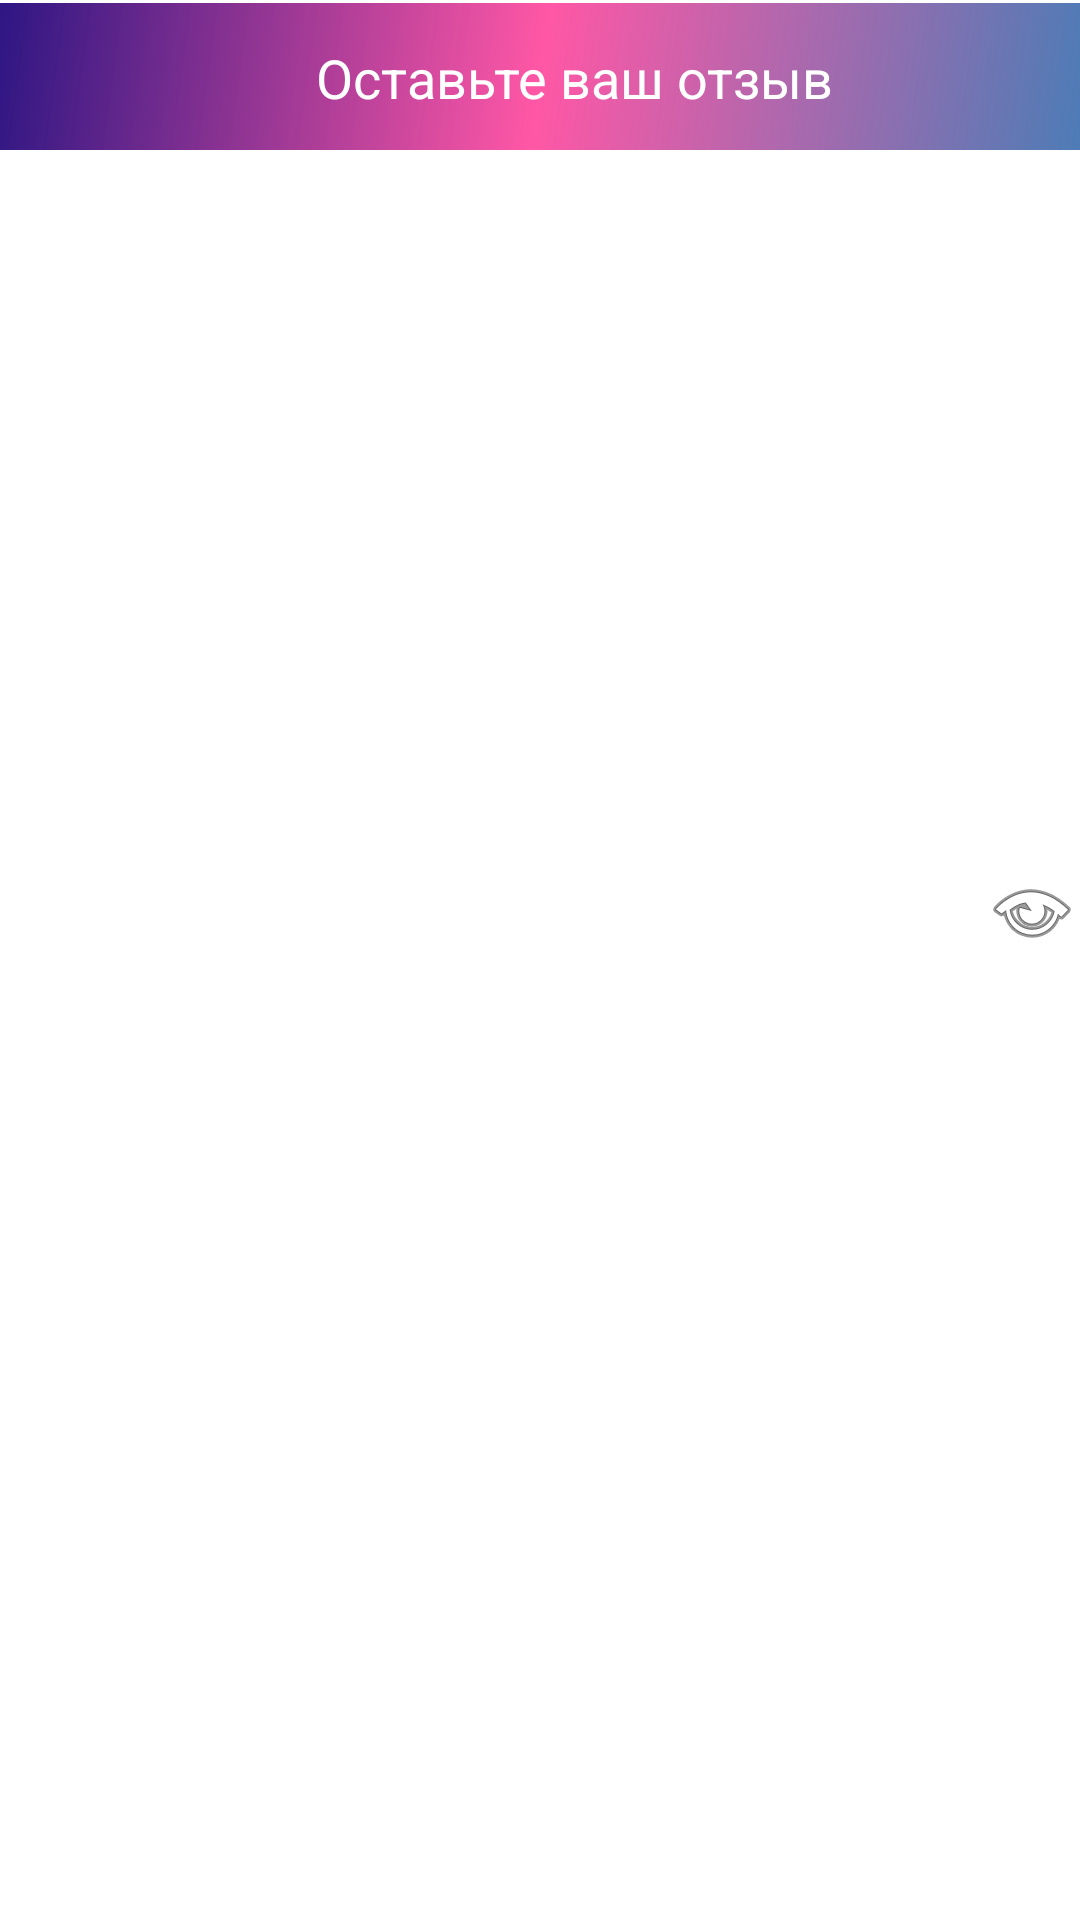

Locate icon controls on the screen. Image size 1080x1920, boxes as (x1, y1, x2, y2).
view: (993, 889, 1071, 938)
